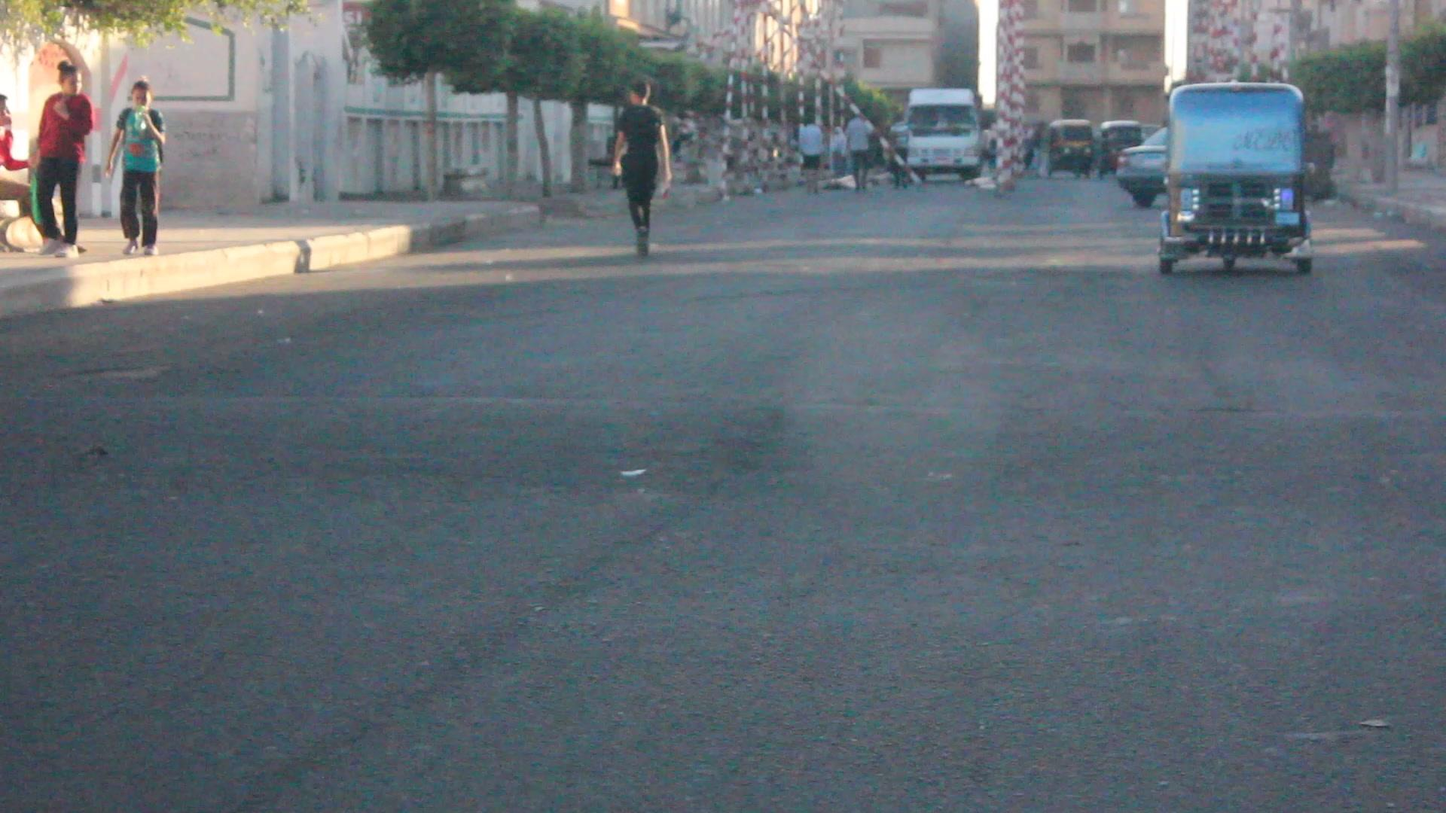Bump: (8, 384, 1446, 548)
